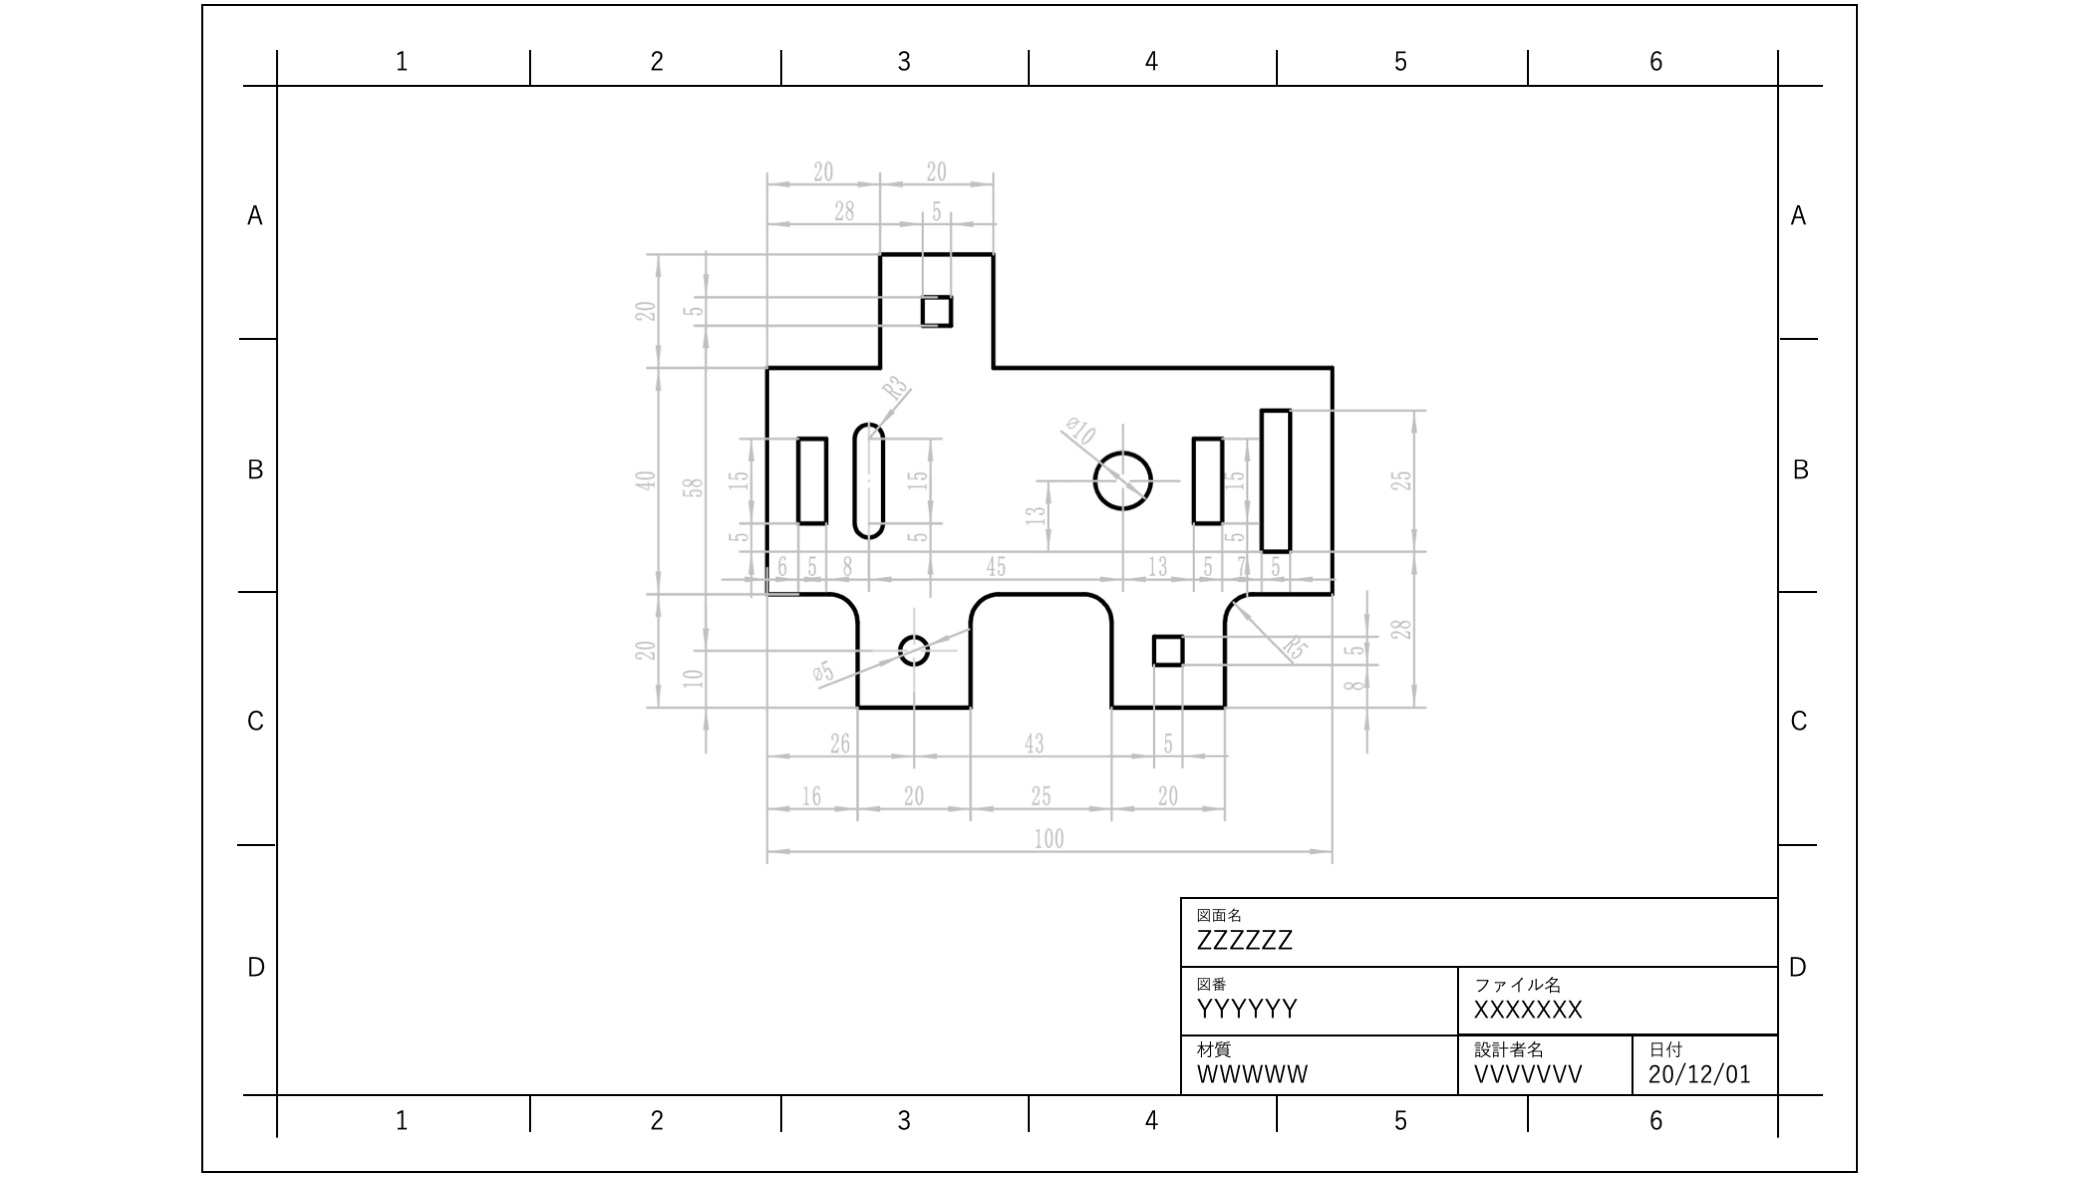circle: (1085, 438, 1161, 519), (896, 616, 937, 673)
rectangle: (1245, 397, 1301, 562), (1180, 412, 1230, 551), (785, 424, 838, 531), (1145, 630, 1199, 678), (912, 287, 956, 330)
round_rectangle: (842, 412, 891, 551)
